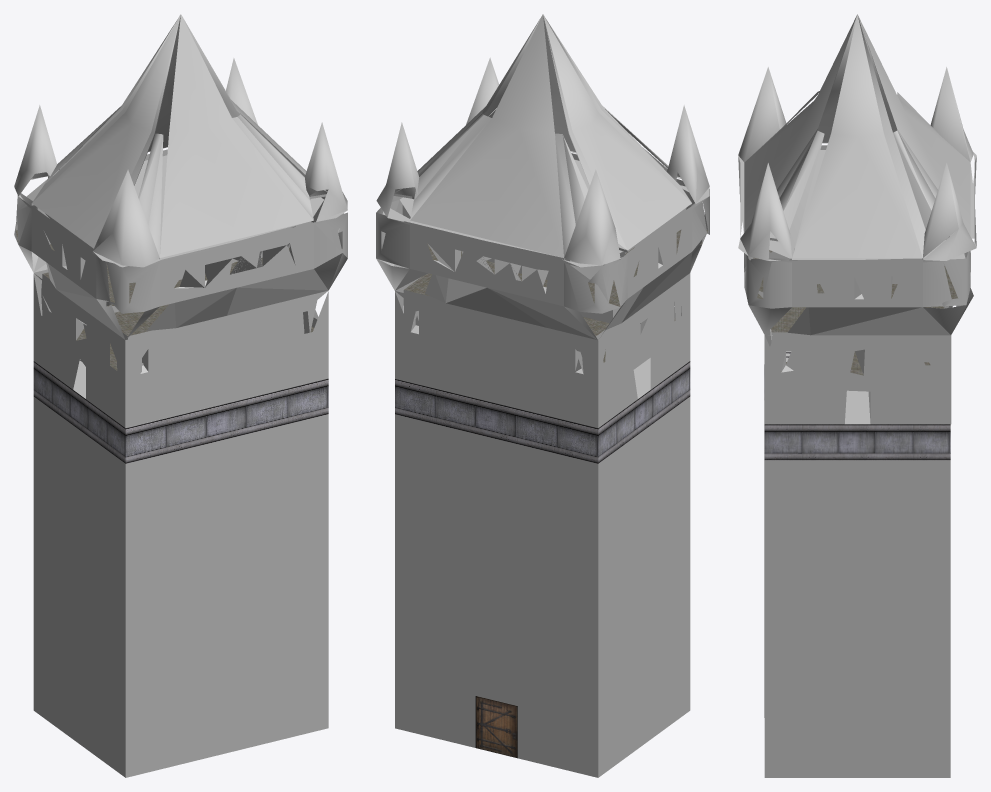
Rendered from LightTowerWall1.fbx.
3 views of the same model, side by side, from view 1: azimuth 30°, elevation 25°; view 2: azimuth 150°, elevation 25°; view 3: azimuth 270°, elevation 25° (orthographic).
Parts seen in each view (by area): view 1: TowerWall1; view 2: TowerWall1; view 3: TowerWall1.
Boxes of the visible parts, x1,y1,x2,y2 form: TowerWall1: (14, 14, 347, 777); TowerWall1: (376, 14, 709, 777); TowerWall1: (738, 14, 976, 777).
Size of the model in its own units: 614 by 1687 by 511.
